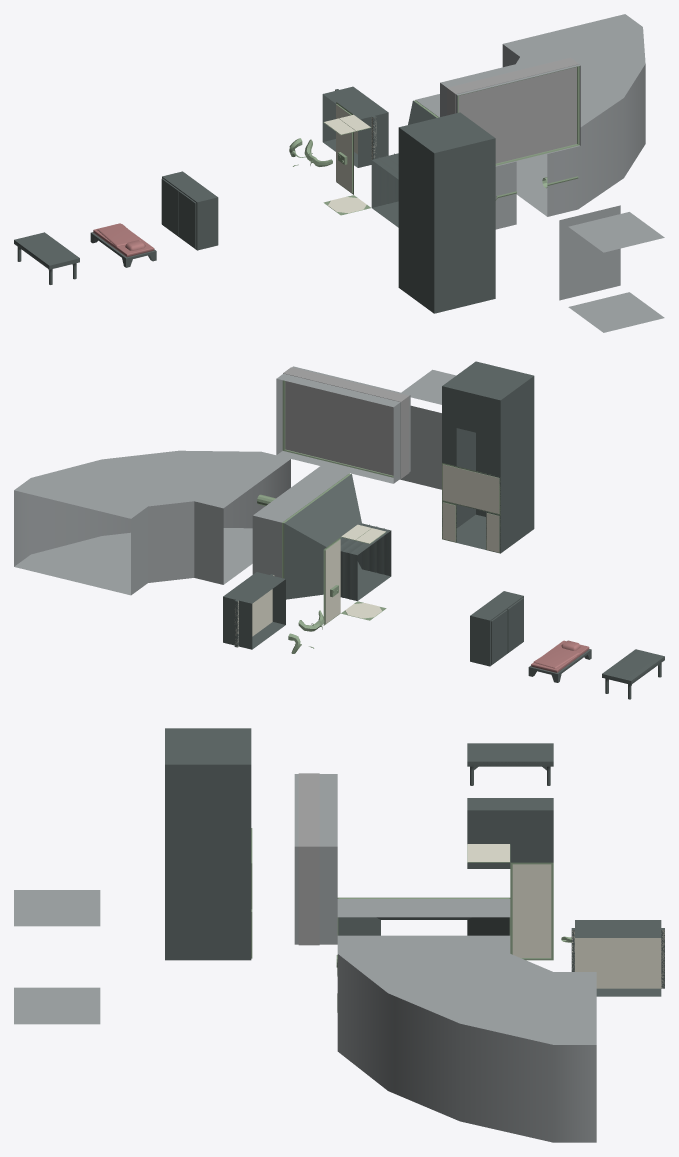
File: LabAssets.fbx
3 renders of one model, top to bottom at view 1: azimuth 30°, elevation 25°; view 2: azimuth 150°, elevation 25°; view 3: azimuth 270°, elevation 25°, orthographic. The views are drawn at different scales.
Parts seen in each view (by area): view 1: Elevator_Shaft, Hall_Turn, Growery_Window, Growery_Wall, Doorway, Growery_Floor, Growery_Celling, Cabinet, Growery_Hole, Hall_Little, Hall_Straight, Lab_Middle (+7 smaller); view 2: Hall_Turn, Elevator_Shaft, Growery_Window, Doorway_Opening, Hall_Straight, Doorway, Elevator_Door, Growery_Hole, Hall_Little, Growery_Wall, Cabinet, Lab_Wall (+10 smaller); view 3: Hall_Turn, Elevator_Shaft, Cabinet, Doorway_Door, Growery_Hole, Growery_Window, Lab_Wall, Hall_Straight, Growery_Floor, Growery_Celling, Doorway, Table_low (+4 smaller).
Part boxes in pixels (x1,y1,x2,y2): Elevator_Shaft: (398,112,495,313); Hall_Turn: (502,14,645,216); Growery_Window: (447,57,579,163); Growery_Wall: (559,205,620,300); Doorway: (322,86,388,167); Growery_Floor: (568,292,664,332); Growery_Celling: (568,212,664,252); Cabinet: (162,171,218,250); Growery_Hole: (440,52,580,166); Hall_Little: (371,153,398,227); Hall_Straight: (415,94,516,229); Lab_Middle: (324,114,370,213); Hall_Turn: (14,450,290,595); Elevator_Shaft: (442,361,534,553); Growery_Window: (283,367,409,478); Doorway_Opening: (284,474,361,599); Hall_Straight: (252,466,349,577); Doorway: (223,572,285,649); Elevator_Door: (442,464,499,552); Growery_Hole: (276,366,410,483); Hall_Little: (340,523,391,600); Growery_Wall: (400,405,441,489); Cabinet: (470,591,523,666); Lab_Wall: (325,539,340,623); Hall_Turn: (337,935,596,1142); Elevator_Shaft: (165,728,251,960); Cabinet: (467,798,553,868); Doorway_Door: (571,930,664,988); Growery_Hole: (294,774,337,944); Growery_Window: (298,773,319,945); Lab_Wall: (512,864,551,957); Hall_Straight: (337,899,510,917); Growery_Floor: (14,987,100,1024); Growery_Celling: (14,890,100,926); Doorway: (571,920,664,996); Table_low: (467,743,553,766).
Bounding box in the file's own units: 4100 × 1002 × 3017.
